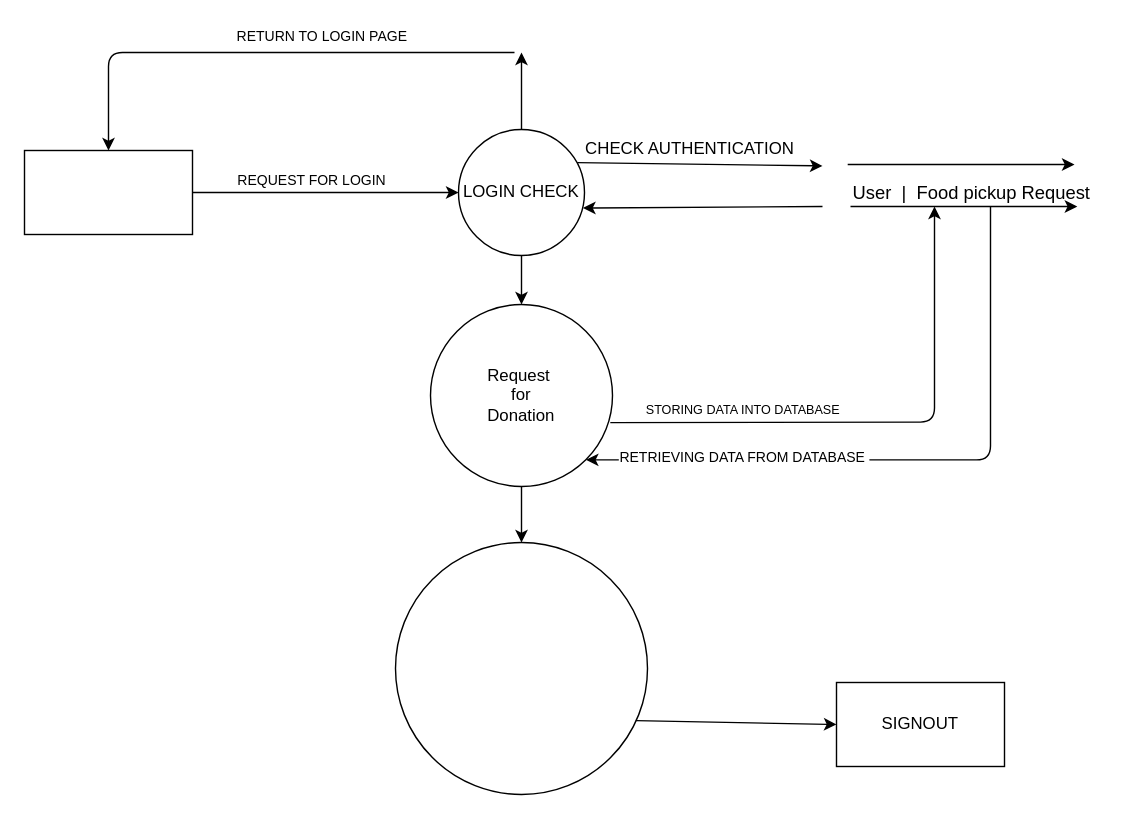
The diagram is 1141 pixels wide and 819 high, and some of its shapes have lost their labels. Here are the shapes that lost their labels. From the top down, the box of each, then its label:
(23, 149, 192, 234): User
(394, 541, 648, 794): View Donation history Contact Admin
